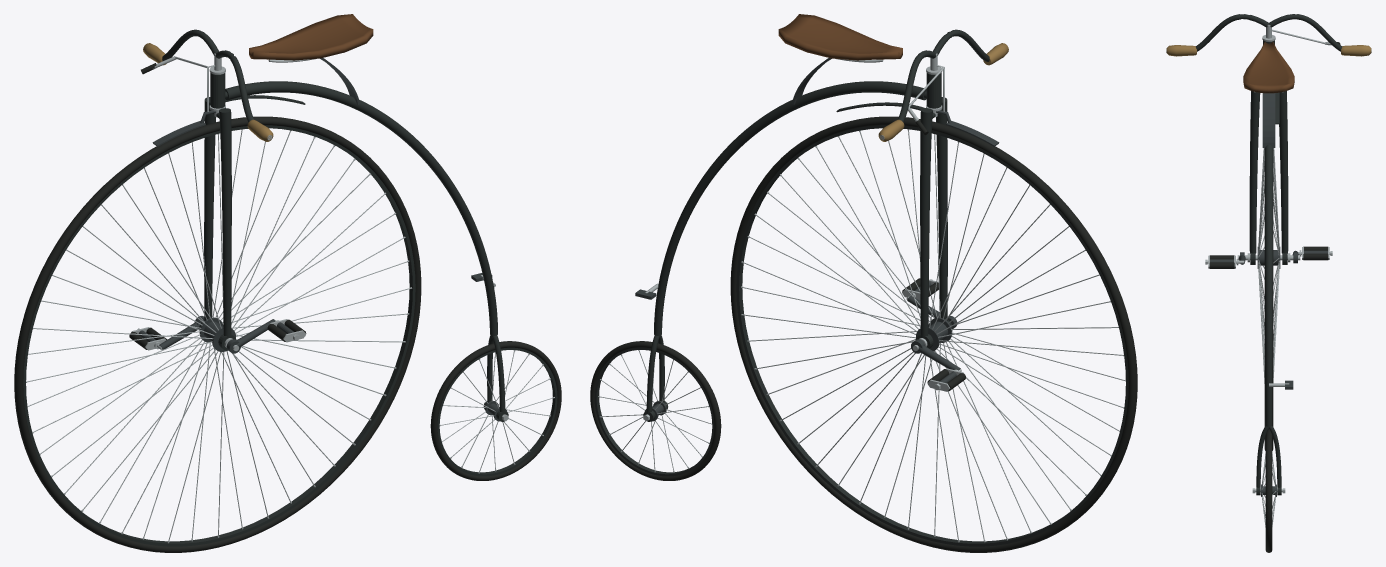
Rendered from NEW453_penny_farthing_LOD0.glb.
3 renders of one model, left to right at view 1: azimuth 30°, elevation 25°; view 2: azimuth 150°, elevation 25°; view 3: azimuth 270°, elevation 25°, orthographic. The views are drawn at different scales.
Visible parts, largest first — view 1: Front_solid_rubber_tyre, Front_rim_closed_channel, Single_curved_backbone, Leather_saddle_closed_underside, Rear_solid_rubber_tyre, Front_fork_blade_-1, Front_fork_blade_1, Rear_rim_closed_channel; view 2: Front_solid_rubber_tyre, Front_rim_closed_channel, Single_curved_backbone, Leather_saddle_closed_underside, Rear_solid_rubber_tyre, Front_fork_blade_1, Front_fork_blade_-1, Rear_rim_closed_channel; view 3: Single_curved_backbone, Leather_saddle_closed_underside, Front_fork_blade_-1, Front_fork_blade_1, Rear_solid_rubber_tyre, Front_solid_rubber_tyre, Saddle_support_curved_leaf_spring, Swept_handlebar_1, Swept_handlebar_-1, Turned_wood_grip_-1, Turned_wood_grip_1, Rear_fork_blade_-1 (+1 smaller).
Boxes of the visible parts, <box> form: Front_solid_rubber_tyre: <box>14,116,421,552</box>; Front_rim_closed_channel: <box>23,125,415,546</box>; Single_curved_backbone: <box>225,81,497,335</box>; Leather_saddle_closed_underside: <box>249,14,373,60</box>; Rear_solid_rubber_tyre: <box>430,341,561,480</box>; Front_fork_blade_-1: <box>219,108,231,337</box>; Front_fork_blade_1: <box>204,97,215,320</box>; Rear_rim_closed_channel: <box>437,347,557,476</box>; Front_solid_rubber_tyre: <box>730,116,1137,552</box>; Front_rim_closed_channel: <box>736,125,1128,546</box>; Single_curved_backbone: <box>654,81,926,335</box>; Leather_saddle_closed_underside: <box>778,14,902,60</box>; Rear_solid_rubber_tyre: <box>590,341,721,480</box>; Front_fork_blade_1: <box>920,108,932,337</box>; Front_fork_blade_-1: <box>936,97,947,320</box>; Rear_rim_closed_channel: <box>594,347,714,476</box>; Single_curved_backbone: <box>1264,144,1273,426</box>; Leather_saddle_closed_underside: <box>1243,42,1294,93</box>; Front_fork_blade_-1: <box>1249,91,1260,253</box>; Front_fork_blade_1: <box>1279,91,1288,253</box>; Rear_solid_rubber_tyre: <box>1265,429,1272,552</box>; Front_solid_rubber_tyre: <box>1264,178,1273,450</box>; Saddle_support_curved_leaf_spring: <box>1262,93,1275,147</box>; Swept_handlebar_1: <box>1269,14,1342,51</box>; Swept_handlebar_-1: <box>1195,14,1268,51</box>; Turned_wood_grip_-1: <box>1166,45,1196,56</box>; Turned_wood_grip_1: <box>1341,45,1371,56</box>; Rear_fork_blade_-1: <box>1256,426,1268,487</box>.
Size of the model in its own units: 1.71 by 1.51 by 0.67.
